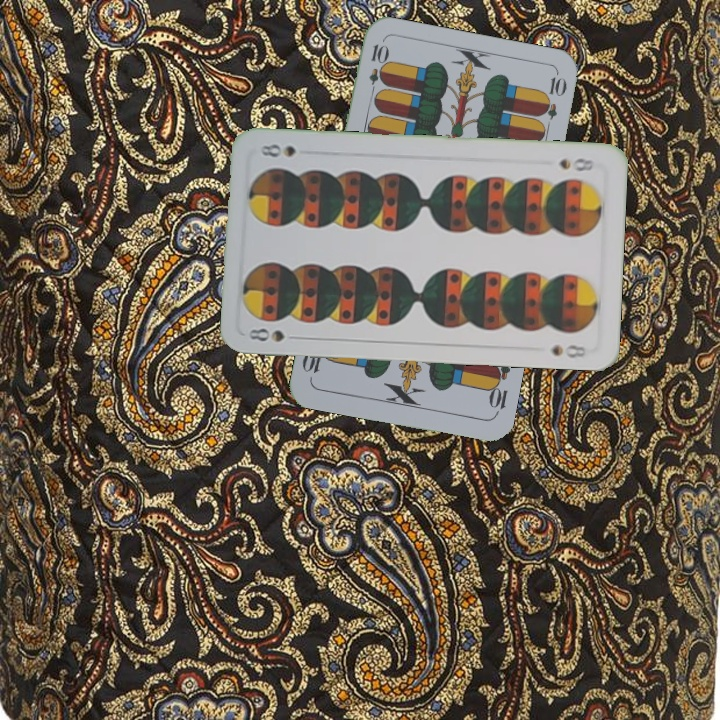E10: (484, 359, 513, 418), (364, 40, 388, 99)
S8: (244, 324, 303, 344), (554, 153, 598, 174)
